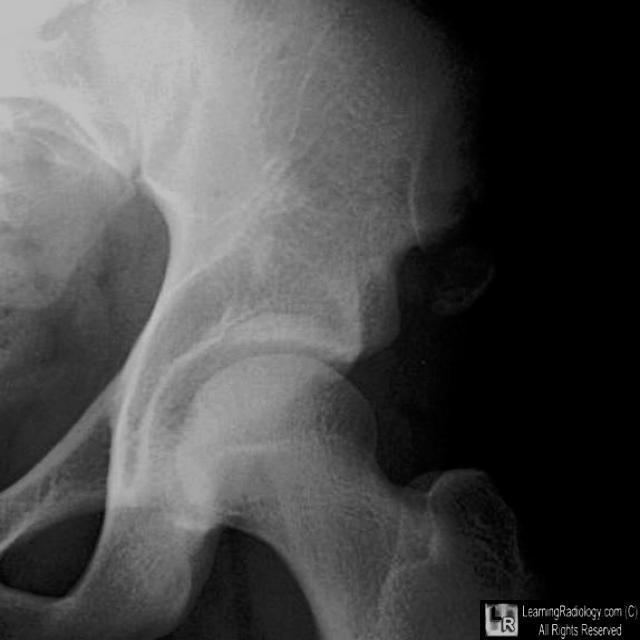Avlusion Fracture: (401, 250, 493, 320)
